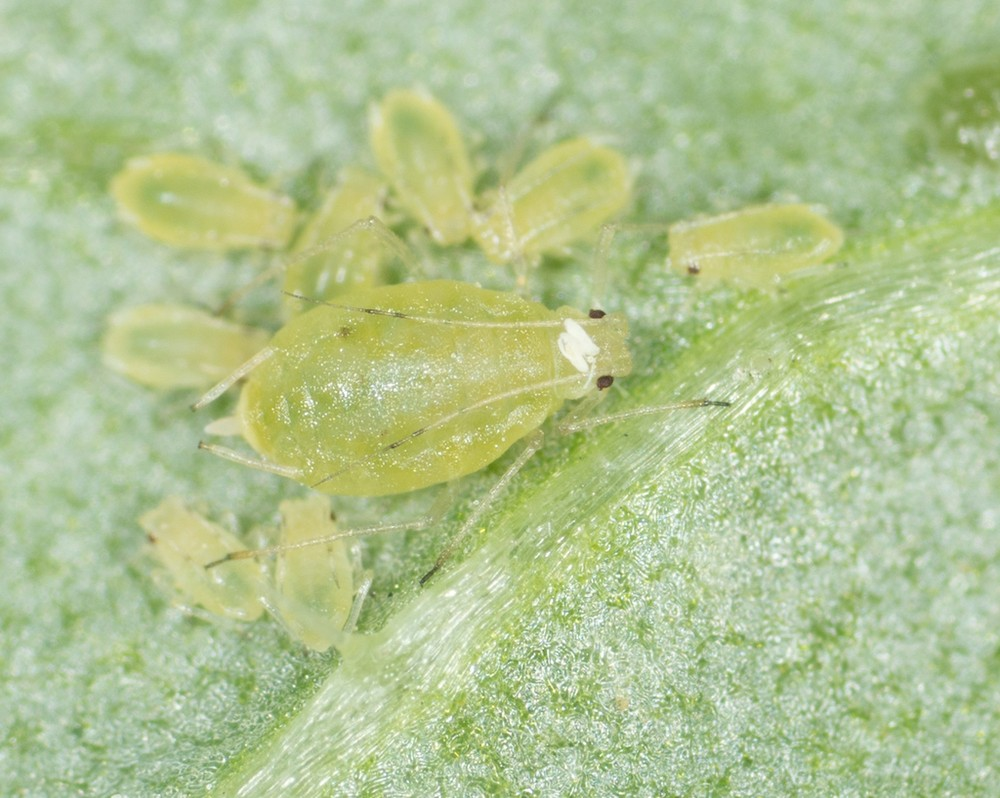Pulgon: (230, 222, 694, 544), (99, 123, 323, 272), (352, 66, 518, 258), (462, 122, 651, 288), (655, 174, 856, 312), (254, 469, 390, 671), (78, 289, 285, 401), (122, 487, 270, 632)
